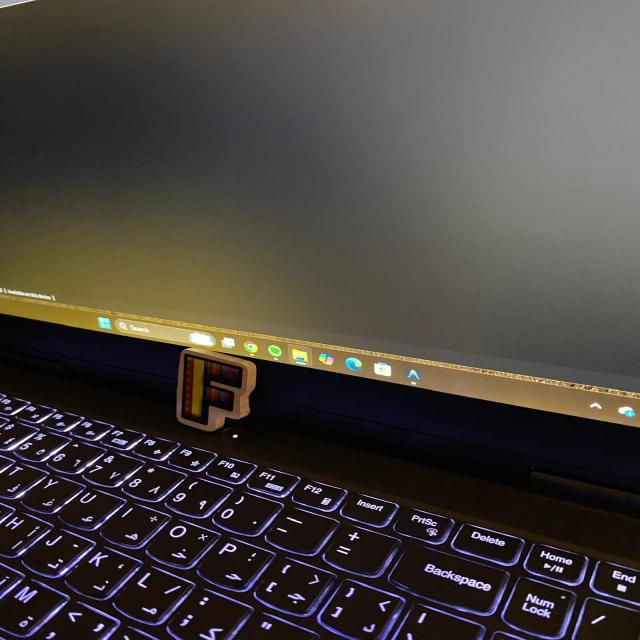F: (177, 349, 255, 431)
